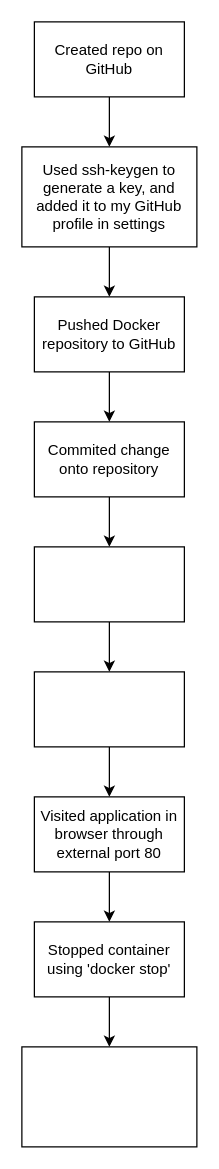
Image size: 219x1169. Some labels were removed from this diagram. The shapes that lost their labels are listed below. From the top down, each one's centre as x and y in pixels, then its label:
pixel 108 584: Updated repository using 'git pull', and ran it
pixel 108 709: Used 'docker ps' to verify if container was running
pixel 109 1096: Deleted container and image using 'docker rm' and 'docker rmi', respectively
